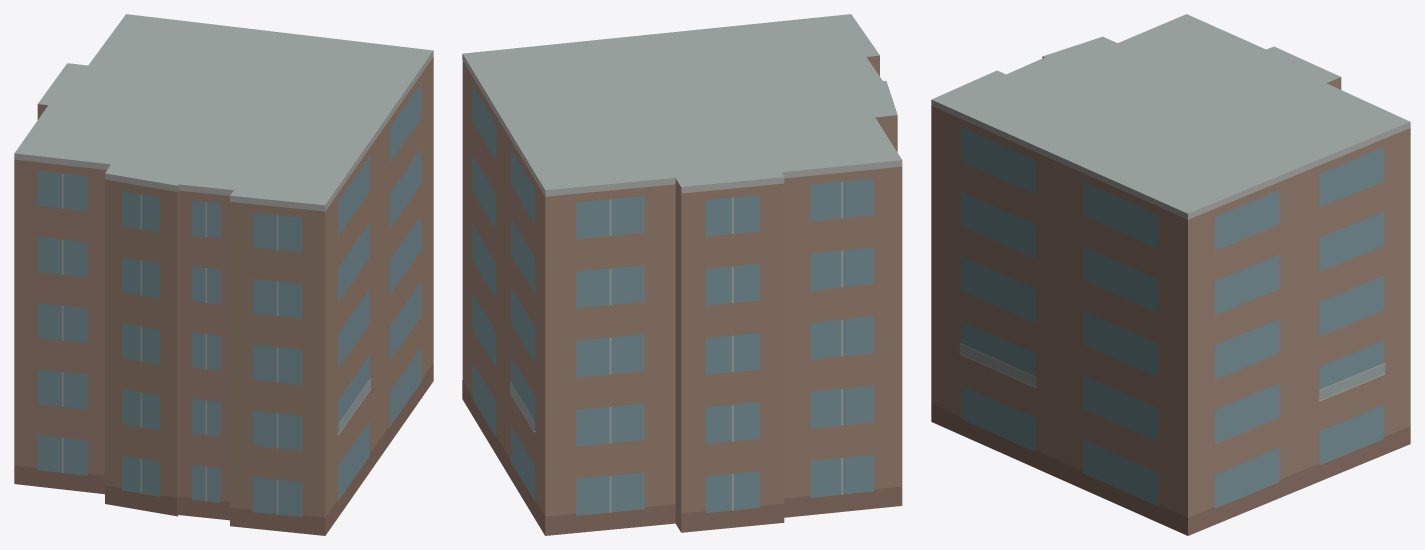
The model's file is survey-upis-32922882.glb.
3 renders of one model, left to right at view 1: azimuth 30°, elevation 25°; view 2: azimuth 150°, elevation 25°; view 3: azimuth 270°, elevation 25°, orthographic. The views are drawn at different scales.
Visible parts, largest first — view 1: survey-upis-32922882.tmp; view 2: survey-upis-32922882.tmp; view 3: survey-upis-32922882.tmp.
Part boxes in pixels (bbox=[...]): survey-upis-32922882.tmp: bbox=[14, 14, 433, 535]; survey-upis-32922882.tmp: bbox=[462, 14, 902, 535]; survey-upis-32922882.tmp: bbox=[931, 14, 1410, 535].
Bounding box in the file's own units: 17.43 × 13.1 × 17.67.
